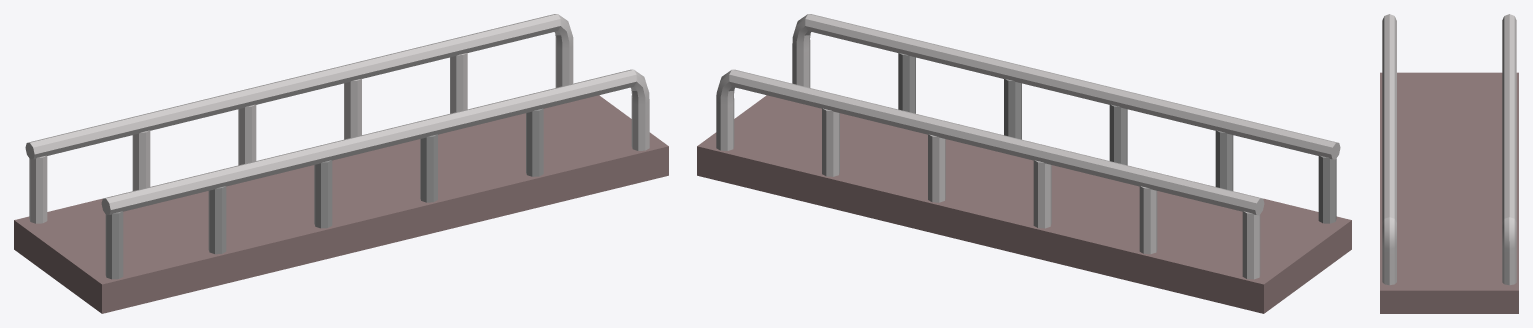
3 renders of one model, left to right at view 1: azimuth 30°, elevation 25°; view 2: azimuth 150°, elevation 25°; view 3: azimuth 270°, elevation 25°, orthographic. The views are drawn at different scales.
Parts seen in each view (by area): view 1: mapa:mapa:pCylinder7; view 2: mapa:mapa:pCylinder7; view 3: mapa:mapa:pCylinder7.
Part boxes in pixels (x1=…): mapa:mapa:pCylinder7: x1=14, y1=14, x2=668, y2=313; mapa:mapa:pCylinder7: x1=697, y1=14, x2=1351, y2=313; mapa:mapa:pCylinder7: x1=1380, y1=14, x2=1518, y2=313.
Size of the model in its own units: 41.49 by 7.64 by 11.15.
